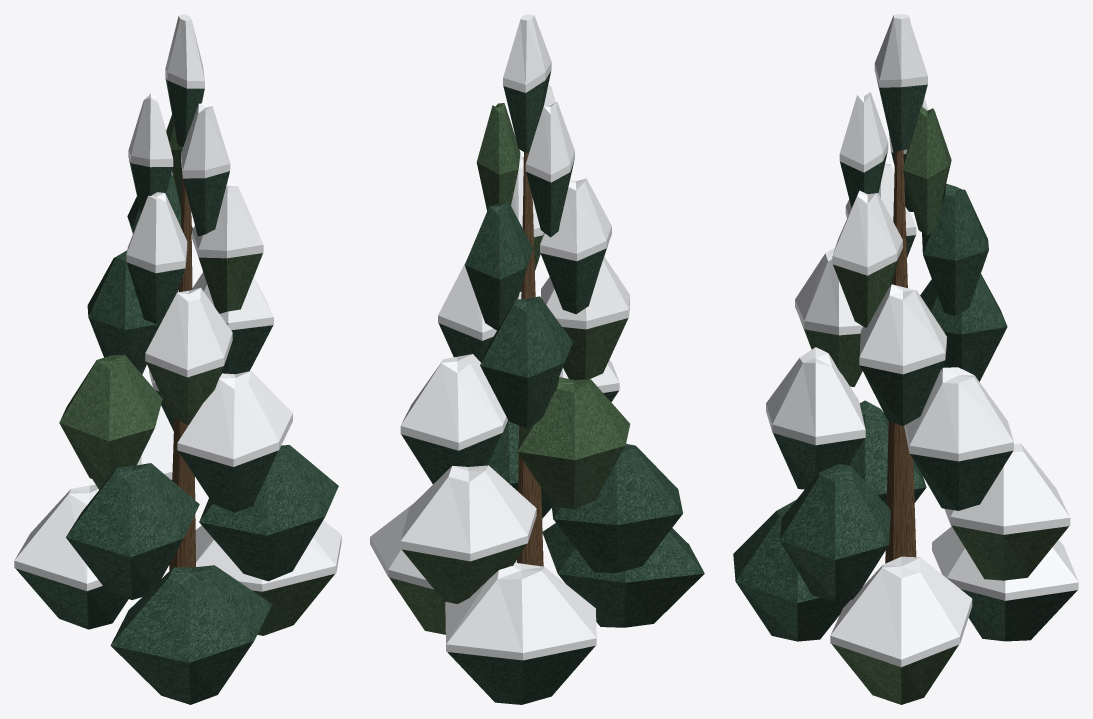
File: tree_snow_01.glb
The picture shows the model from 3 angles, left to right: view 1: azimuth 30°, elevation 25°; view 2: azimuth 150°, elevation 25°; view 3: azimuth 270°, elevation 25°; orthographic projection.
Visible parts, largest first — view 1: canonical_base, snow_accumulation; view 2: canonical_base, snow_accumulation; view 3: canonical_base, snow_accumulation.
Part boxes in pixels (x1,y1,x2,y2): canonical_base: [15, 78, 338, 704]; snow_accumulation: [14, 14, 341, 591]; canonical_base: [389, 71, 704, 704]; snow_accumulation: [370, 14, 629, 660]; canonical_base: [733, 77, 1077, 704]; snow_accumulation: [766, 14, 1078, 667].
Size of the model in its own units: 3.2 by 6.8 by 3.2.
3 materials, 2 textured.
